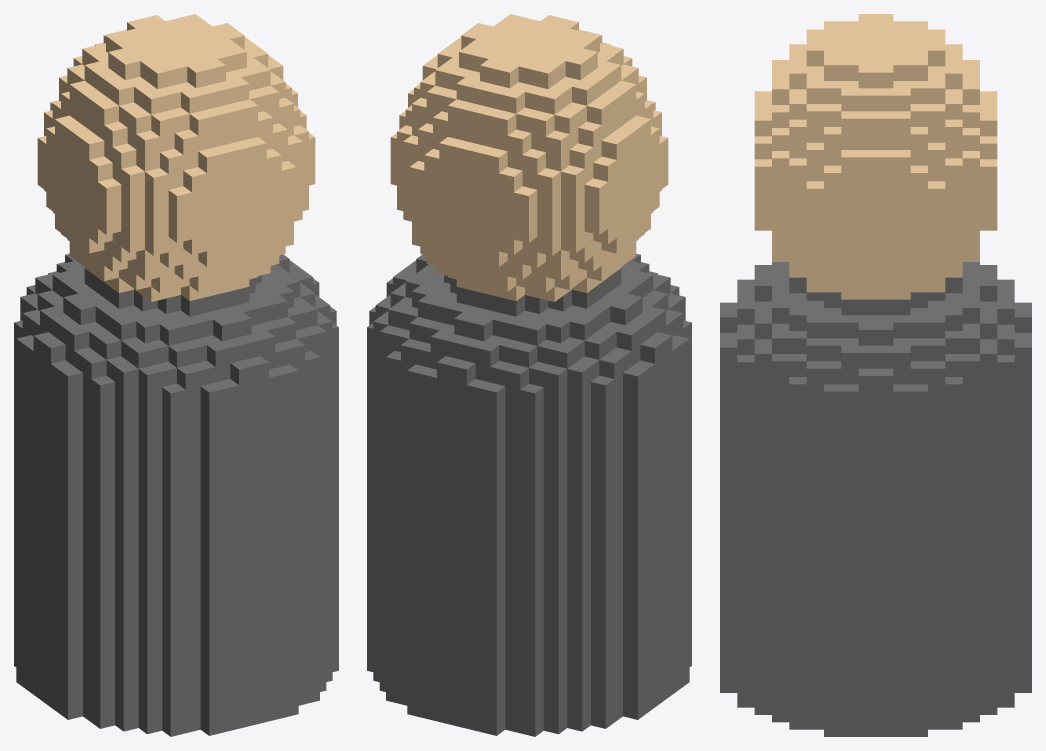
File: Person_8.fbx
3 renders of one model, left to right at view 1: azimuth 30°, elevation 25°; view 2: azimuth 150°, elevation 25°; view 3: azimuth 270°, elevation 25°, orthographic.
Visible parts, largest first — view 1: Person_8; view 2: Person_8; view 3: Person_8.
Boxes of the visible parts, <box> form: Person_8: <box>14,14,338,736</box>; Person_8: <box>367,14,691,736</box>; Person_8: <box>720,14,1031,736</box>.
Bounding box in the file's own units: 18 × 40 × 18.
Materials: 1 (1 with a texture image).
